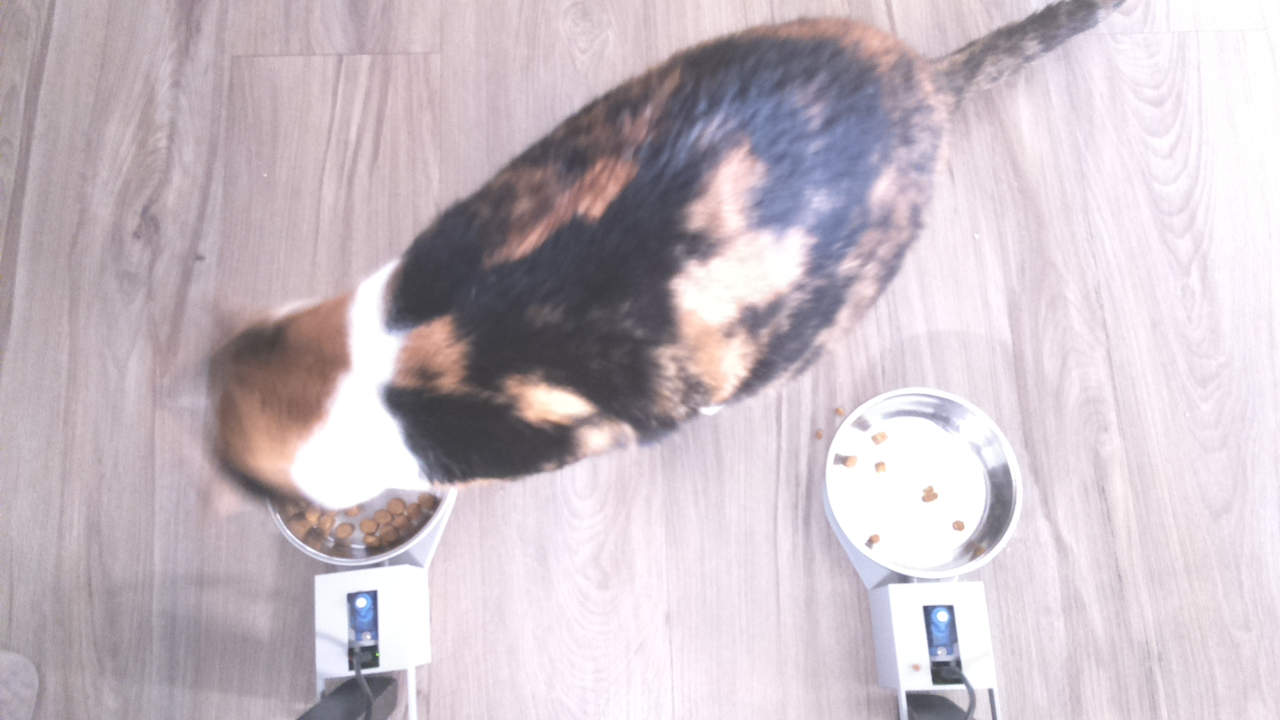bella_eating: (170, 270, 514, 554)
open_bowl: (820, 382, 1020, 585)
